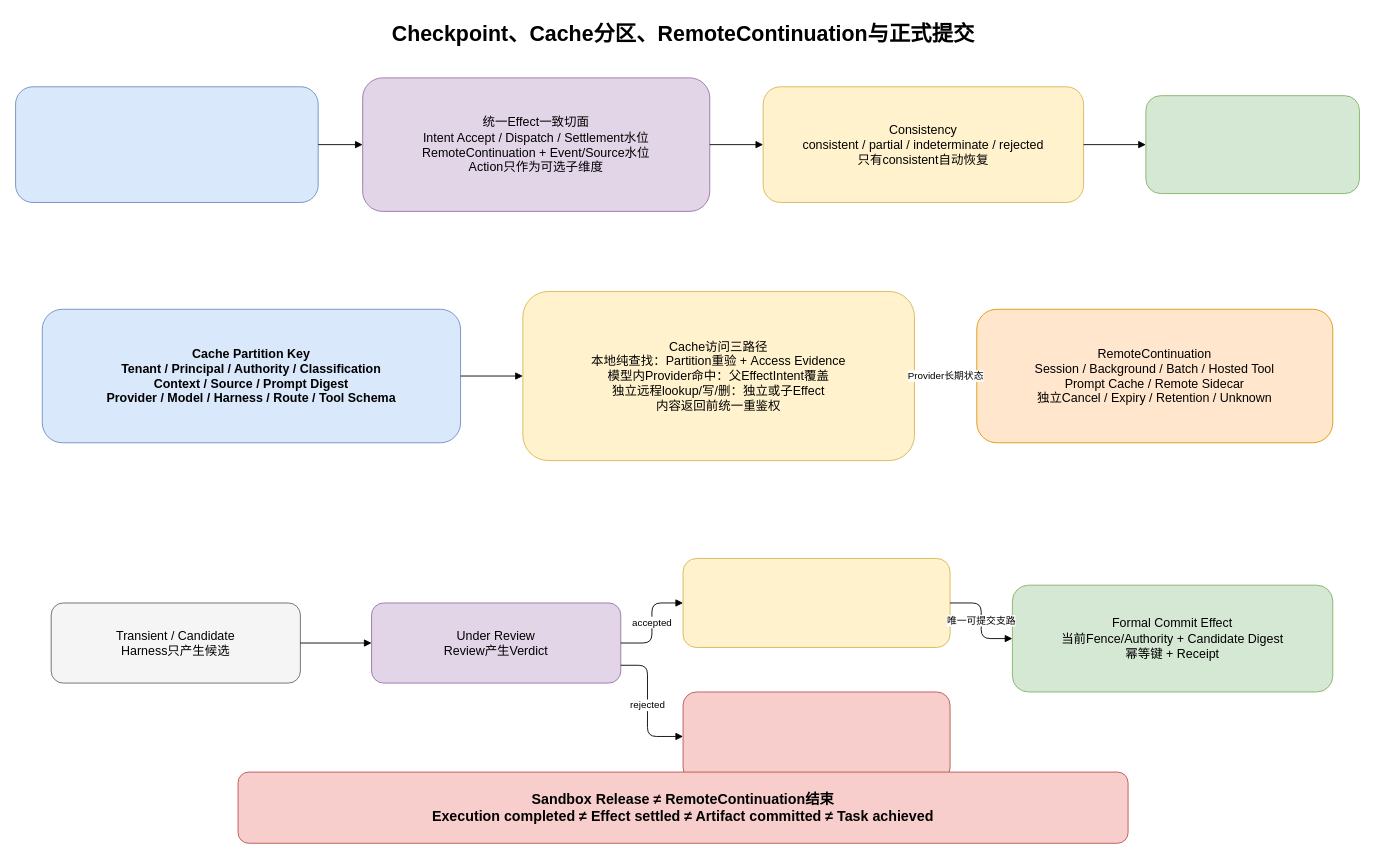
This 1375x859 diagram has some shape labels left out. Here are the shapes that lost their labels. From the top down, the centre of each, then its label:
At (166,144): "Checkpoint Barrier 阻止新Run / 新EffectIntent 固定Intent集合并Fence/排空可控Effect".
At (1252,144): "Restore新Instance + 更高epoch Stage → Validate → Activate 半恢复不得Ready".
At (816,602): "Accepted Verdict 仍不等于已Commit 只有此支路可申请正式提交".
At (816,736): "Rejected Verdict 终止提交支路 不得创建Formal Commit Intent".
